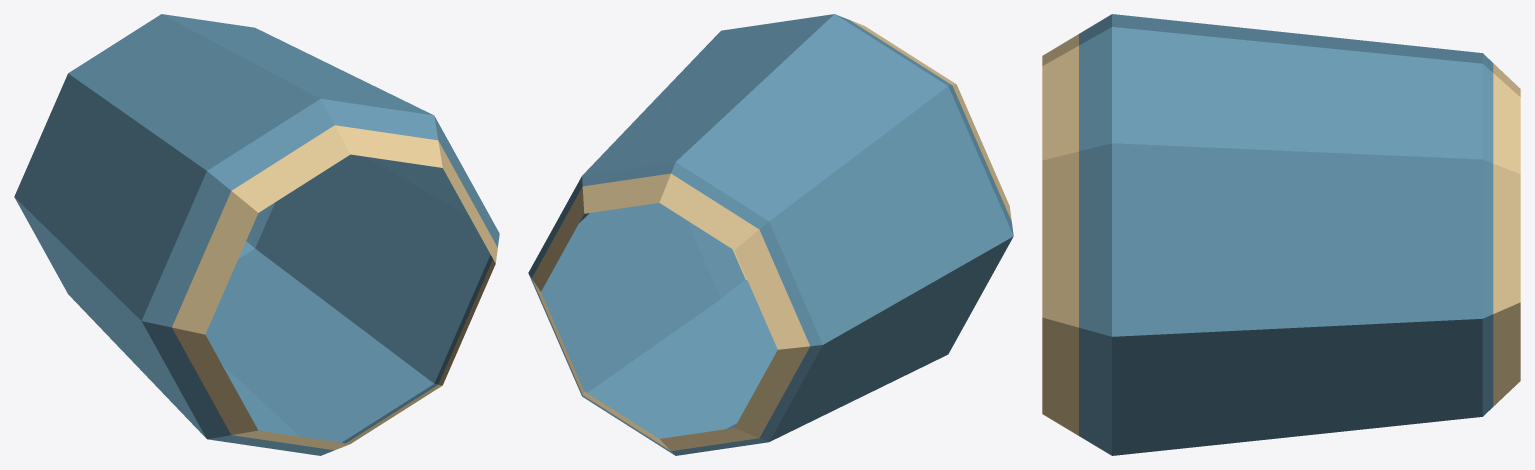
The model's file is FittedVest.obj.
The picture shows the model from 3 angles, left to right: view 1: azimuth 30°, elevation 25°; view 2: azimuth 150°, elevation 25°; view 3: azimuth 270°, elevation 25°; orthographic projection. The views are drawn at different scales.
Parts seen in each view (by area): view 1: FittedVest; view 2: FittedVest; view 3: FittedVest.
Boxes of the visible parts, box(x1,y1,x2,y2) form: FittedVest: box(14, 14, 499, 455); FittedVest: box(528, 14, 1013, 455); FittedVest: box(1042, 14, 1520, 455).
Size of the model in its own units: 3.55 by 3.38 by 3.52.
